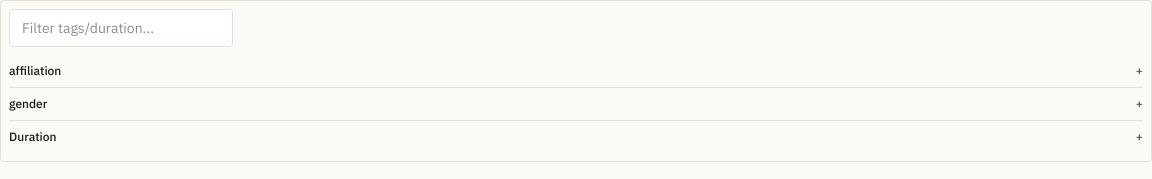
Test: FacetCheckboxGroups › the filter box narrows checkboxes by name across sections and auto-expands matches
Type "orth" into the field with placeholder "Filter tags/duration..." at (121, 28), box left=9, top=9, right=233, bottom=47
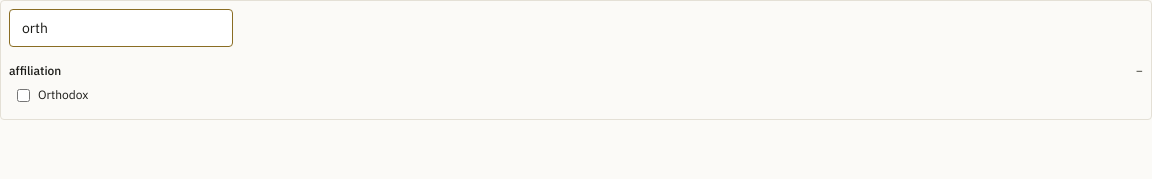
Check: the checkbox labelled "Orthodox" is shown, box left=17, top=88, right=30, bottom=102
Check: the button "gender" is gone
Check: the button "Duration" is gone
